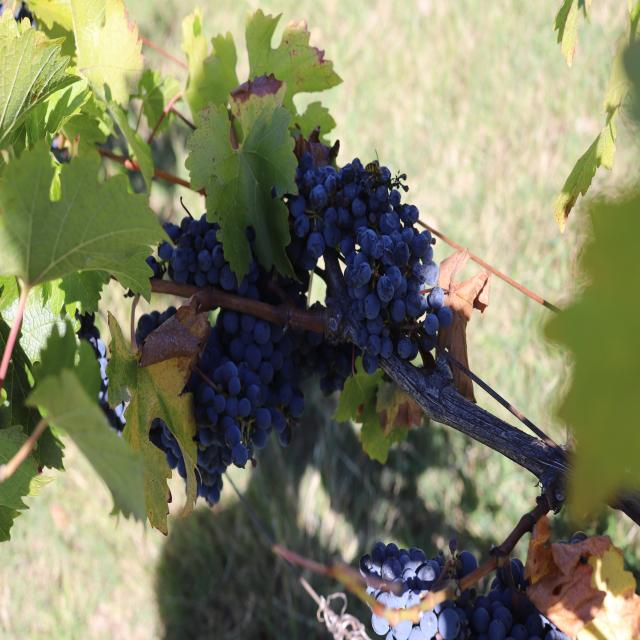grapes: (146, 152, 451, 505), (371, 558, 564, 640), (359, 539, 478, 610), (291, 247, 362, 344), (363, 383, 412, 460), (150, 420, 184, 476)
